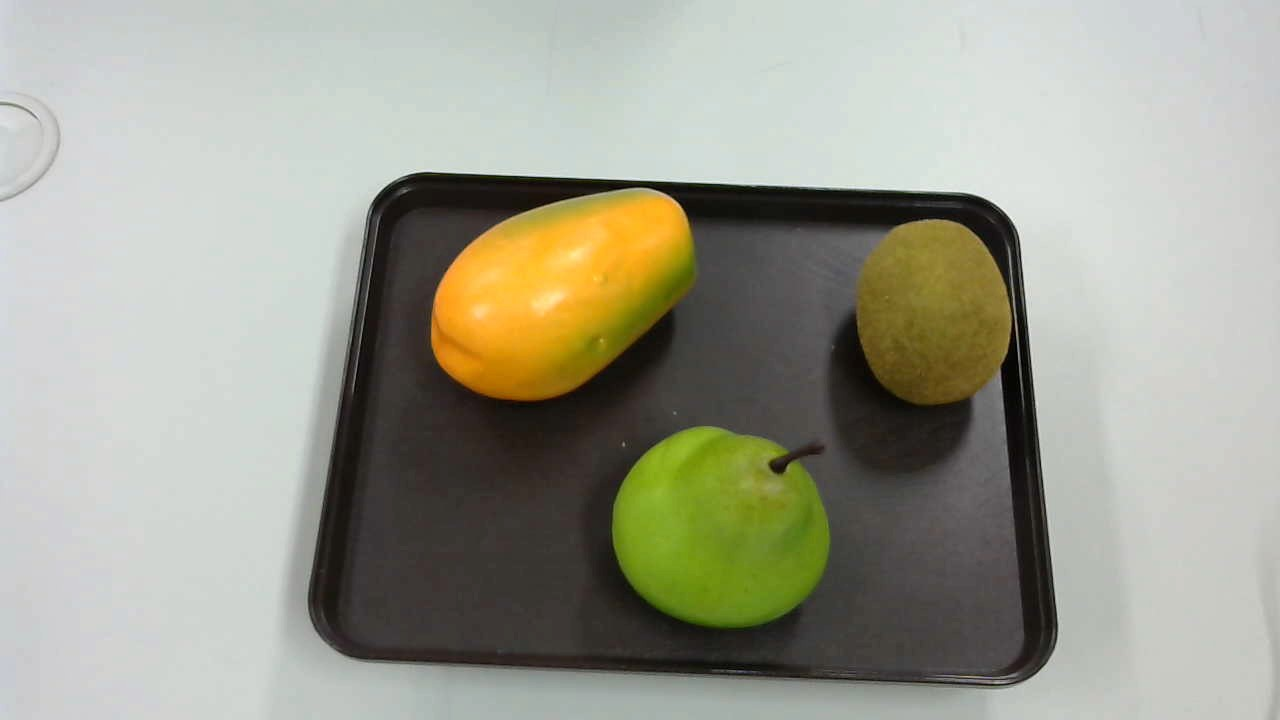green pear: (607, 422, 834, 629)
kiwi fruit: (851, 212, 1016, 417)
papya: (421, 180, 706, 408)
